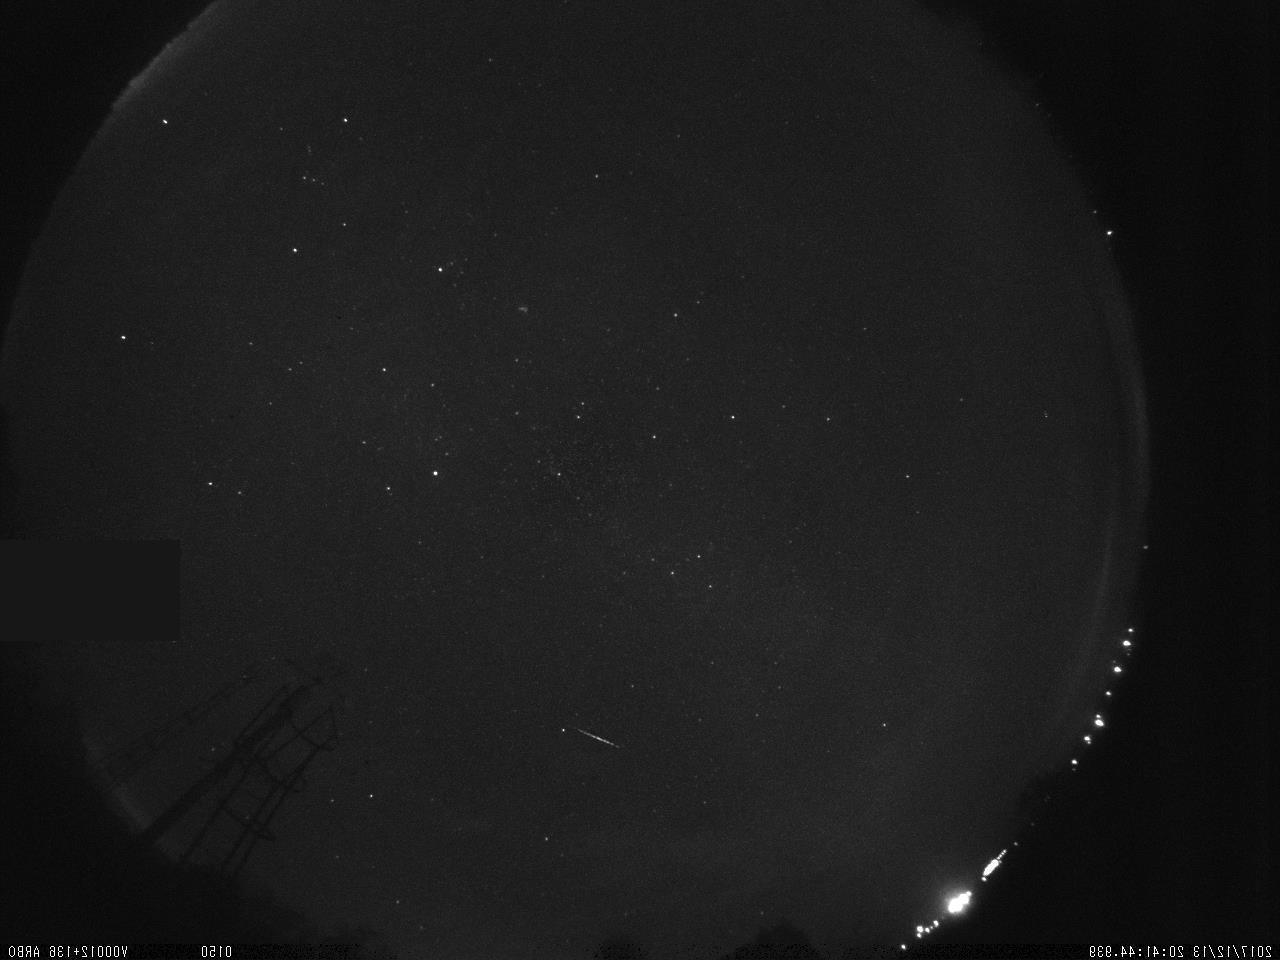meteor: (564, 719, 625, 753)
